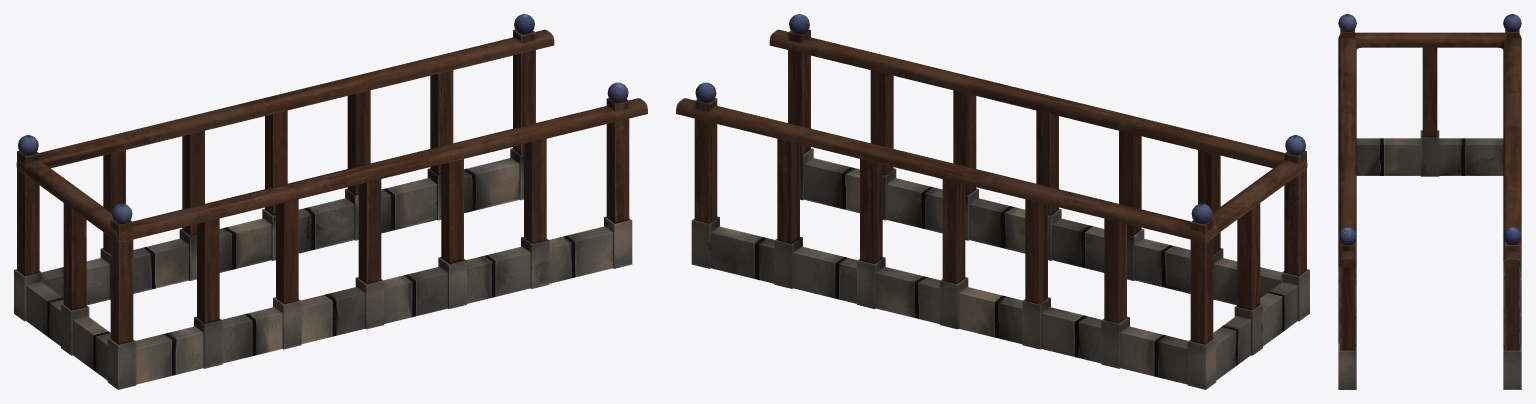
File: DS_WizLab_Arch_Staircase_Upper.fbx
The picture shows the model from 3 angles, left to right: view 1: azimuth 30°, elevation 25°; view 2: azimuth 150°, elevation 25°; view 3: azimuth 270°, elevation 25°; orthographic projection. The views are drawn at different scales.
Parts seen in each view (by area): view 1: DS_WizLab_Arch_Staircase_Upper; view 2: DS_WizLab_Arch_Staircase_Upper; view 3: DS_WizLab_Arch_Staircase_Upper.
Boxes of the visible parts, <box> form: DS_WizLab_Arch_Staircase_Upper: <box>14,14,647,389</box>; DS_WizLab_Arch_Staircase_Upper: <box>676,14,1309,389</box>; DS_WizLab_Arch_Staircase_Upper: <box>1338,14,1521,389</box>.
Size of the model in its own units: 440 by 142 by 150.
Materials: 1 (1 with a texture image).
